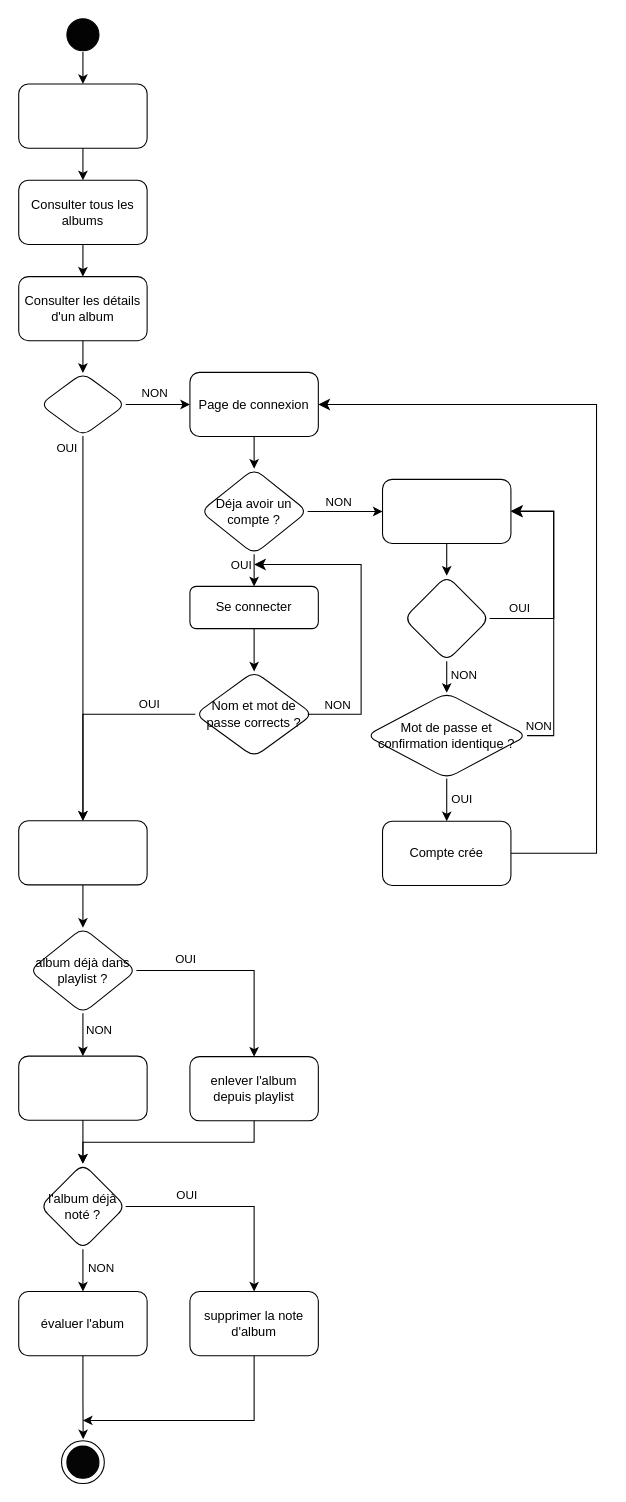
Some shapes in this 626 by 1502 pixel diagram are drawn without their labels. The shapes that lost their labels are listed below. From the top down, each one's centre as x and y in pixels, then its label:
the point at 82,115: Page d'accueil
the point at 82,404: Connecté ?
the point at 446,511: Créer un compte
the point at 446,618: Nom d'utilisateur existe ?
the point at 82,852: Page de détail d'un album
the point at 82,1087: ajouter dans playlist
